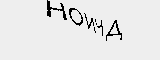Д: (105, 18, 127, 40)
И: (83, 12, 97, 34)
Н: (44, 1, 68, 23)
О: (66, 5, 86, 27)
Ч: (93, 16, 106, 38)
